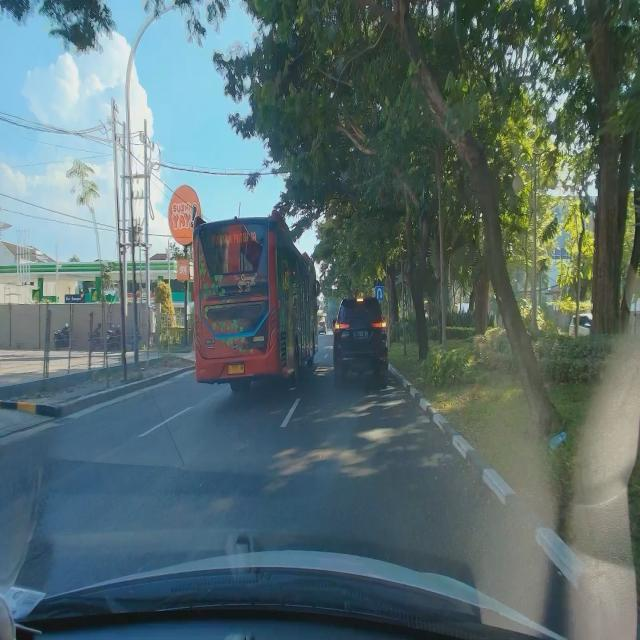bus: (190, 209, 320, 395)
car: (332, 295, 388, 389)
license-plate: (228, 363, 245, 375), (353, 330, 369, 340)
